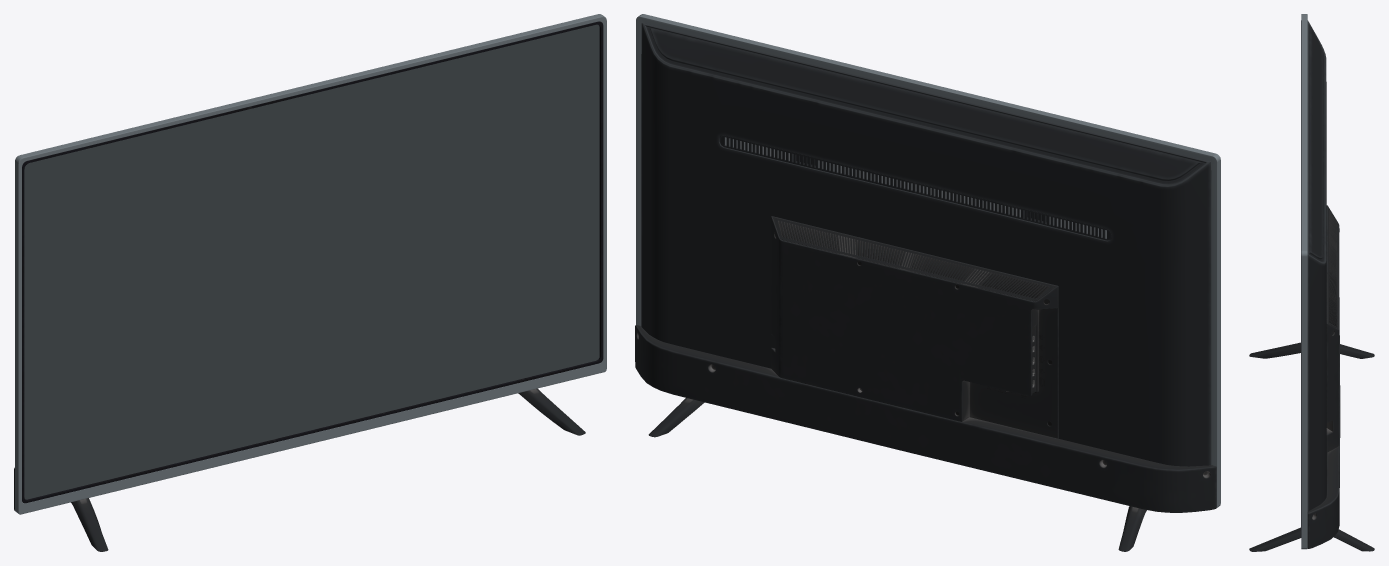
The picture shows the model from 3 angles, left to right: view 1: azimuth 30°, elevation 25°; view 2: azimuth 150°, elevation 25°; view 3: azimuth 270°, elevation 25°; orthographic projection. The views are drawn at different scales.
Visible parts, largest first — view 1: pasted__polySurface8_1005_56, pasted__polySurface105_1005_58, pasted__polySurface104_1005_60, pCube33_1006_86, pCube3_1006_84; view 2: pasted__polySurface6_1005_62, pasted__polySurface140_1006_74, pasted__polySurface13_1006_64, pasted__polySurface105_1005_58, pasted__polySurface139_1006_82, pasted__pasted__polySurface71_1005_66, pasted__polySurface35_1005_68, pCube33_1006_86, pCube3_1006_84; view 3: pasted__polySurface6_1005_62, pasted__polySurface105_1005_58, pasted__polySurface13_1006_64, pasted__polySurface140_1006_74, pasted__polySurface139_1006_82, pCube33_1006_86, pCube3_1006_84, pasted__polySurface104_1005_60.
Part boxes in pixels (x1,y1,x2,y2): pasted__polySurface8_1005_56: (24,24,599,499); pasted__polySurface105_1005_58: (15,14,606,514); pasted__polySurface104_1005_60: (22,21,603,503); pCube33_1006_86: (518,388,585,435); pCube3_1006_84: (71,498,108,551); pasted__polySurface6_1005_62: (641,23,1211,466); pasted__polySurface140_1006_74: (771,216,1058,438); pasted__polySurface13_1006_64: (635,325,1216,512); pasted__polySurface105_1005_58: (636,14,1220,508); pasted__polySurface139_1006_82: (772,216,1056,301); pasted__pasted__polySurface71_1005_66: (719,135,1111,240); pasted__polySurface35_1005_68: (725,137,1106,238); pCube33_1006_86: (648,398,704,437); pCube3_1006_84: (1118,506,1146,551); pasted__polySurface6_1005_62: (1307,20,1326,511); pasted__polySurface105_1005_58: (1301,14,1307,549); pasted__polySurface13_1006_64: (1307,297,1340,548); pasted__polySurface140_1006_74: (1326,205,1339,452); pasted__polySurface139_1006_82: (1327,206,1338,328); pCube33_1006_86: (1249,527,1374,551); pCube3_1006_84: (1249,342,1374,358); pasted__polySurface104_1005_60: (1301,20,1301,537).
Bounding box in the file's own units: 11.51 × 7.19 × 2.55.
Materials: 2 (2 with a texture image).
